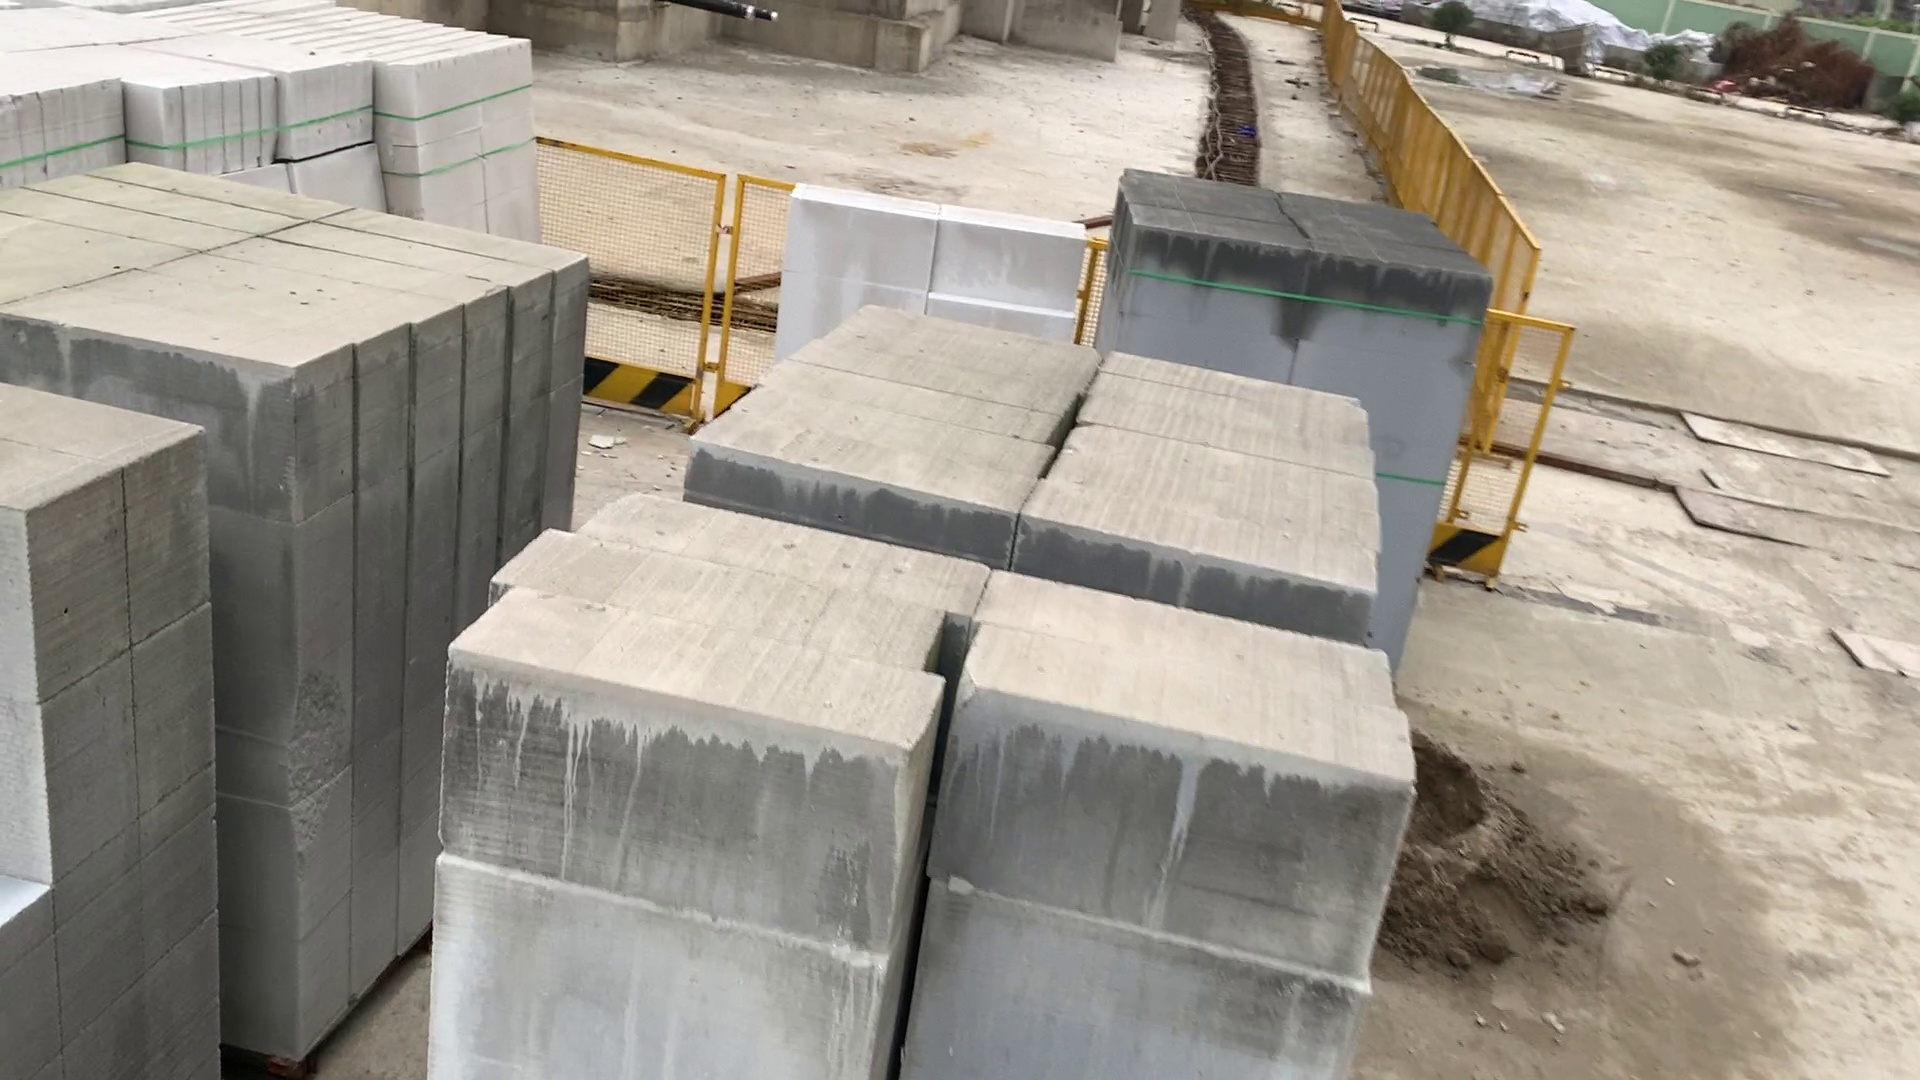brickwork: (429, 504, 1418, 1080), (691, 302, 1389, 622), (4, 382, 255, 1072), (3, 166, 603, 404), (1104, 167, 1493, 384), (146, 3, 553, 76), (7, 11, 129, 185)
